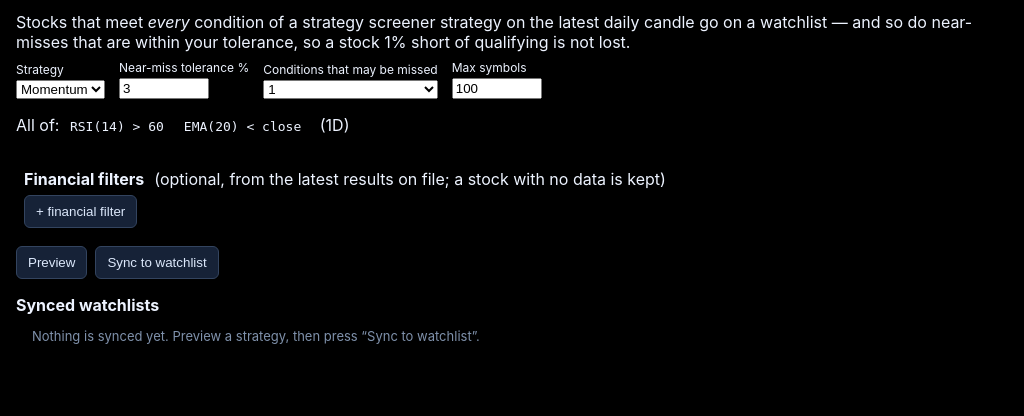
Test: StrategiesView › shows the error when the strategy screener is down and keeps the page usable
Click the button "Preview" at point(52, 262), box [16,246,87,279]
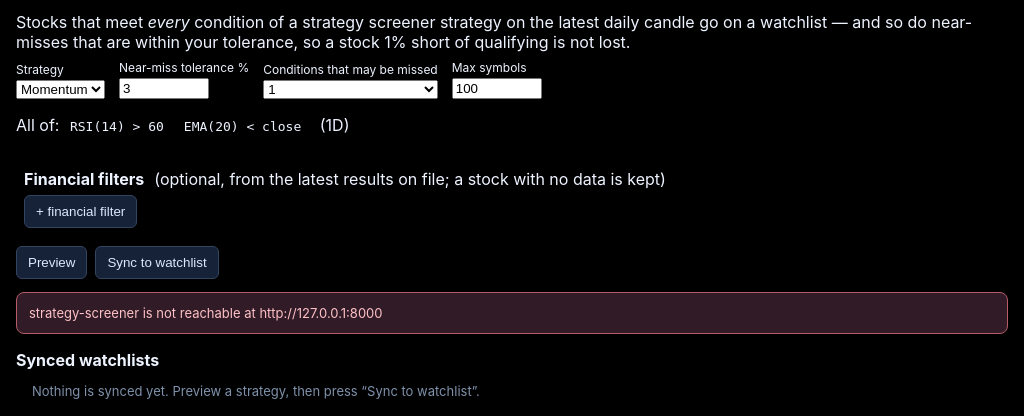
expect the message shows "not reachable": met, box [29,305,382,321]
